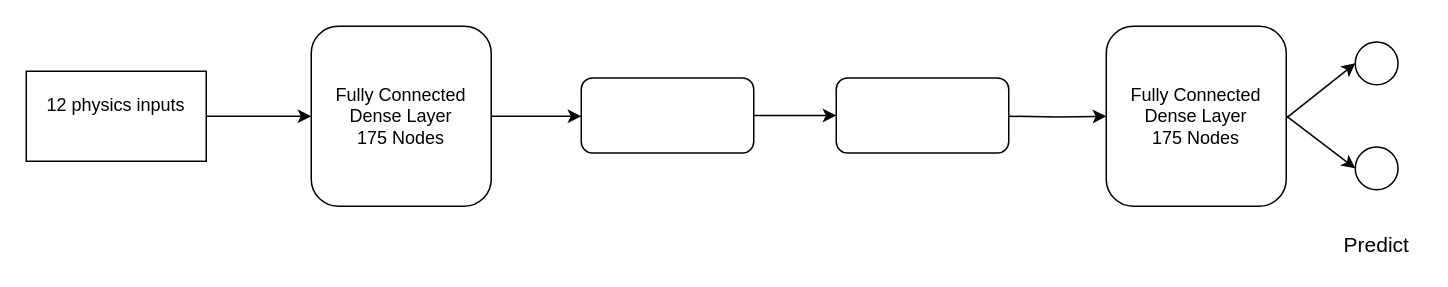
The diagram is 1448 pixels wide and 287 high, and some of its shapes have lost their labels. The shapes that lost their labels are listed below. From the top down, each one's centre as x and y in pixels, then its label:
(x=667, y=114): Dropout 0.2
(x=922, y=114): Batch Normalization
